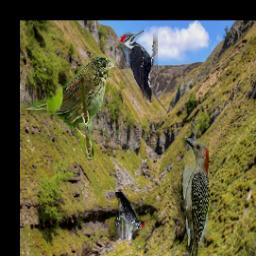Sparrow: (21, 55, 115, 162)
Woodpecker: (171, 139, 209, 256), (120, 29, 159, 103), (116, 192, 145, 233)
